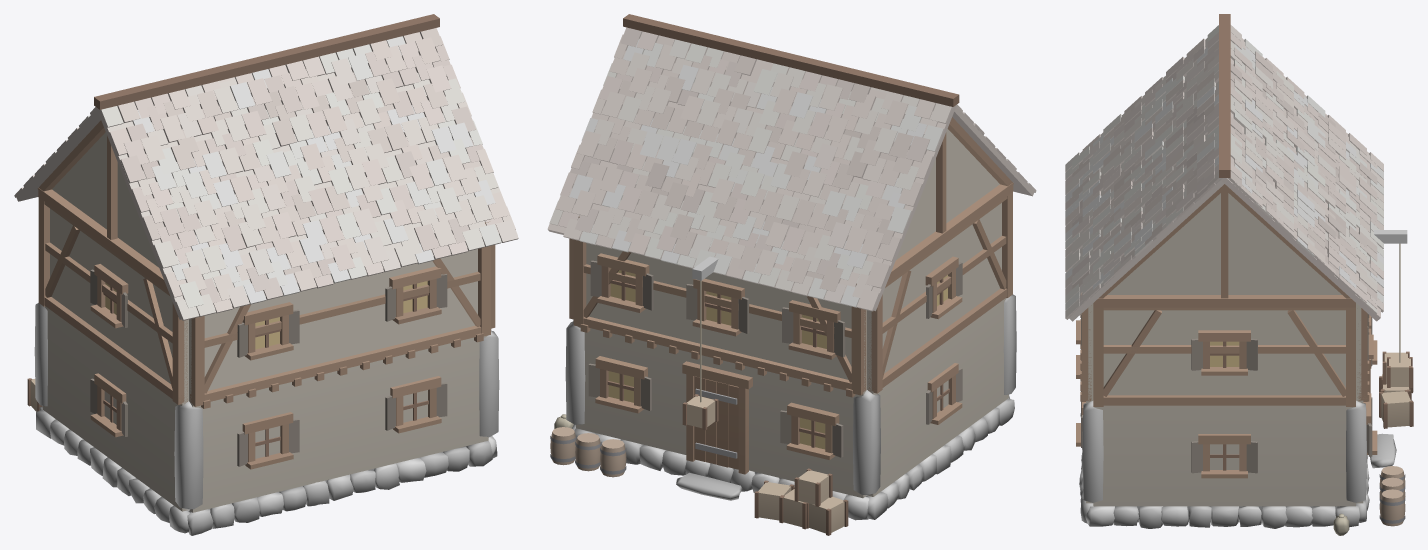
Rendered from hw_medieval_warehouse.glb.
The picture shows the model from 3 angles, left to right: view 1: azimuth 30°, elevation 25°; view 2: azimuth 150°, elevation 25°; view 3: azimuth 270°, elevation 25°; orthographic projection. The views are drawn at different scales.
Visible parts, largest first — view 1: Building; view 2: Building; view 3: Building.
Boxes of the visible parts, x1,y1,x2,y2 form: Building: (14, 14, 518, 535); Building: (547, 14, 1036, 535); Building: (1065, 14, 1413, 535).
Size of the model in its own units: 5.22 by 5.54 by 4.77.
